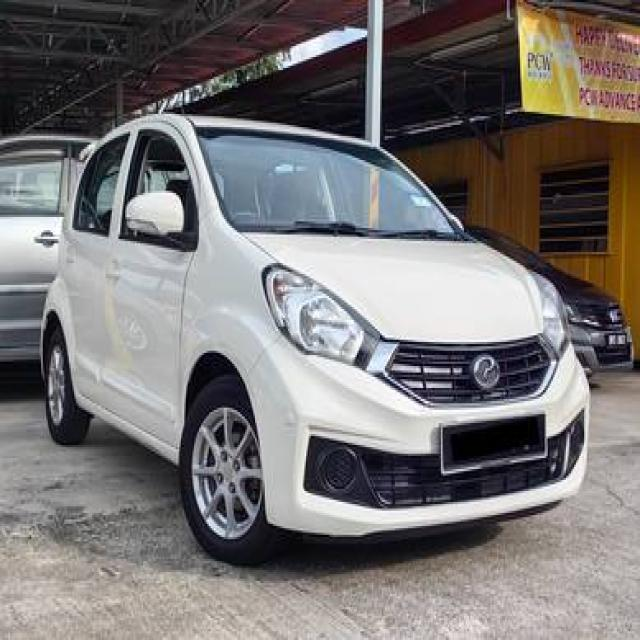PeroduaMyvi: (36, 110, 592, 566)
